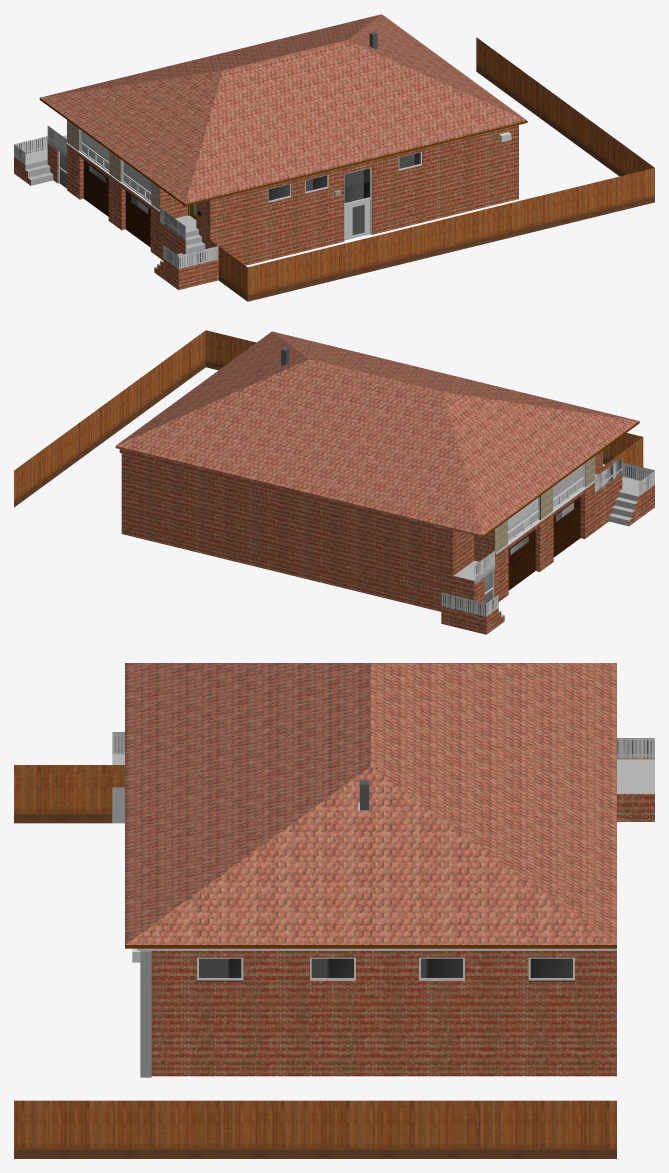
Rendered from Residential House 07.fbx.
3 renders of one model, top to bottom at view 1: azimuth 30°, elevation 25°; view 2: azimuth 150°, elevation 25°; view 3: azimuth 270°, elevation 25°, orthographic. The views are drawn at different scales.
Parts seen in each view (by area): view 1: Residential House 07; view 2: Residential House 07; view 3: Residential House 07.
Part boxes in pixels (box(x1,y1,x2,y2)): Residential House 07: box(14, 14, 654, 301); Residential House 07: box(14, 330, 654, 634); Residential House 07: box(14, 663, 654, 1158).
Size of the model in its own units: 2707 by 782 by 1973.
Materials: 1 (1 with a texture image).
